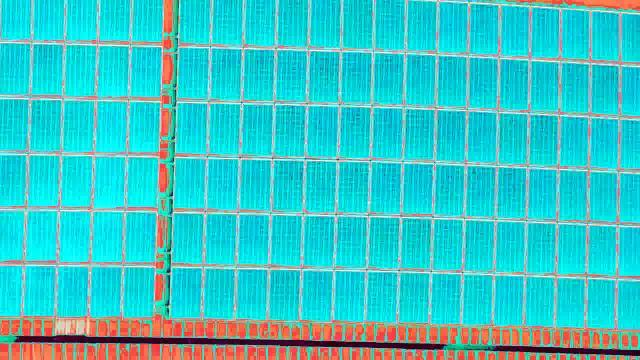dirty: (494, 163, 525, 219), (31, 98, 61, 155), (1, 42, 31, 98), (33, 41, 63, 97), (64, 44, 94, 100), (98, 43, 128, 99), (131, 44, 161, 100), (177, 46, 207, 102), (211, 46, 241, 102), (244, 48, 274, 104), (277, 48, 307, 104), (308, 48, 338, 104), (340, 52, 370, 108), (374, 50, 404, 106), (405, 53, 435, 109), (437, 52, 467, 108), (466, 55, 496, 111), (498, 55, 528, 111), (530, 60, 560, 116), (556, 63, 586, 119), (590, 60, 620, 116), (589, 115, 619, 171), (556, 115, 586, 171), (530, 111, 560, 167), (498, 110, 528, 166), (467, 110, 497, 166), (435, 111, 465, 167), (402, 108, 432, 164), (371, 106, 401, 162), (340, 107, 370, 163), (306, 106, 336, 162), (272, 105, 302, 161), (243, 104, 273, 160), (209, 101, 239, 157), (176, 103, 206, 159), (127, 102, 157, 158), (94, 100, 124, 156), (62, 98, 92, 154), (28, 154, 58, 210), (62, 154, 92, 210), (95, 155, 125, 211), (122, 158, 152, 214), (177, 156, 207, 212), (211, 158, 241, 214), (241, 158, 271, 214), (270, 159, 300, 215), (306, 159, 336, 215), (340, 162, 370, 218), (372, 160, 402, 216), (403, 162, 433, 218), (433, 165, 463, 221), (466, 167, 496, 223), (529, 169, 559, 225), (560, 170, 590, 226), (588, 170, 618, 226), (586, 223, 616, 279), (560, 221, 590, 277), (528, 222, 558, 278), (496, 220, 526, 276), (463, 217, 493, 273), (432, 217, 462, 273), (401, 216, 431, 272), (370, 215, 400, 271), (335, 214, 365, 270), (302, 215, 332, 271), (235, 213, 265, 269), (205, 211, 235, 267), (266, 214, 296, 270), (172, 211, 202, 267), (123, 211, 153, 267), (96, 209, 126, 265), (59, 212, 89, 268), (26, 208, 56, 264), (24, 264, 54, 320), (57, 264, 87, 320), (91, 266, 121, 322), (124, 266, 154, 322), (170, 268, 200, 324), (203, 265, 233, 321), (237, 269, 267, 325), (269, 269, 299, 325), (304, 269, 334, 325), (334, 271, 364, 327), (365, 271, 395, 327), (400, 271, 430, 327), (432, 272, 462, 328), (463, 274, 493, 330), (493, 275, 523, 331), (528, 276, 558, 332), (554, 275, 584, 331), (585, 279, 615, 335), (589, 6, 619, 62), (555, 5, 585, 61), (531, 4, 561, 60), (499, 3, 529, 59), (470, 2, 500, 58), (1, 98, 30, 155), (436, 1, 466, 56), (408, 1, 438, 56), (1, 154, 30, 210)
